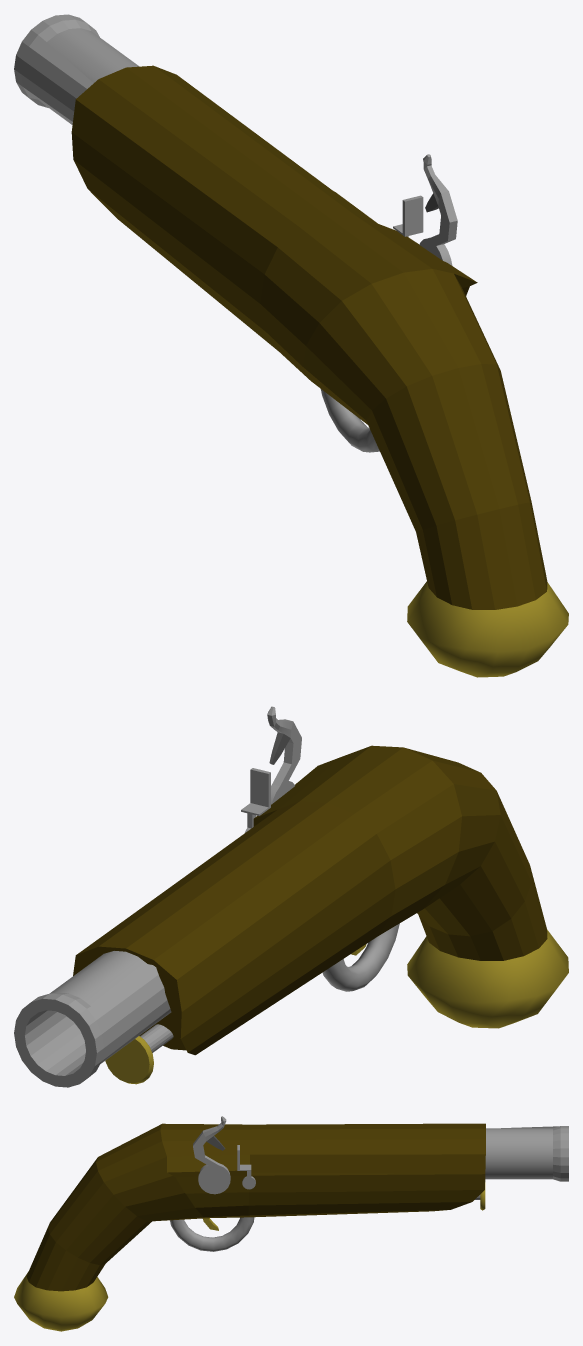
Rendered from Flintlock.fbx.
3 views of the same model, one above another, from view 1: azimuth 30°, elevation 25°; view 2: azimuth 150°, elevation 25°; view 3: azimuth 270°, elevation 25° (orthographic). The views are drawn at different scales.
Visible parts, largest first — view 1: PistolFrame, PistolBarrel, PistolHammer, TriggerGuard, Frizzen; view 2: PistolFrame, PistolBarrel, TriggerGuard, RamRod, PistolHammer, Frizzen; view 3: PistolFrame, PistolBarrel, PistolHammer, TriggerGuard, Frizzen.
Boxes of the visible parts, x1=… form: PistolFrame: x1=71, y1=65, x2=568, y2=677; PistolBarrel: x1=14, y1=14, x2=139, y2=124; PistolHammer: x1=419, y1=154, x2=457, y2=265; TriggerGuard: x1=320, y1=389, x2=379, y2=452; Frizzen: x1=393, y1=195, x2=423, y2=236; PistolFrame: x1=73, y1=745, x2=568, y2=1055; PistolBarrel: x1=14, y1=951, x2=171, y2=1087; TriggerGuard: x1=322, y1=923, x2=399, y2=991; RamRod: x1=105, y1=1024, x2=173, y2=1084; PistolHammer: x1=267, y1=706, x2=301, y2=804; Frizzen: x1=241, y1=768, x2=270, y2=832; PistolFrame: x1=14, y1=1123, x2=485, y2=1331; PistolBarrel: x1=485, y1=1126, x2=568, y2=1181; PistolHammer: x1=193, y1=1116, x2=230, y2=1194; TriggerGuard: x1=170, y1=1217, x2=254, y2=1251; Frizzen: x1=237, y1=1145, x2=255, y2=1189.
Bounding box in the file's own units: 1.05 × 2.44 × 5.29.
